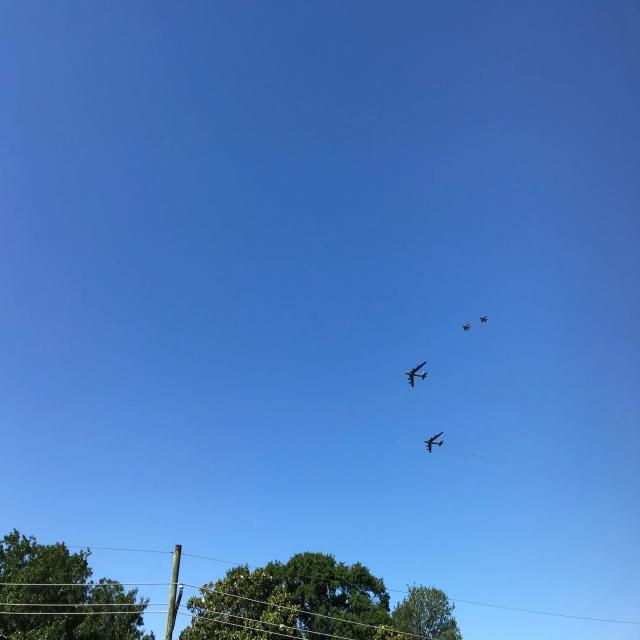MIL_Plane: (423, 432, 444, 453), (404, 371, 428, 378), (460, 324, 471, 332), (478, 316, 488, 323)
